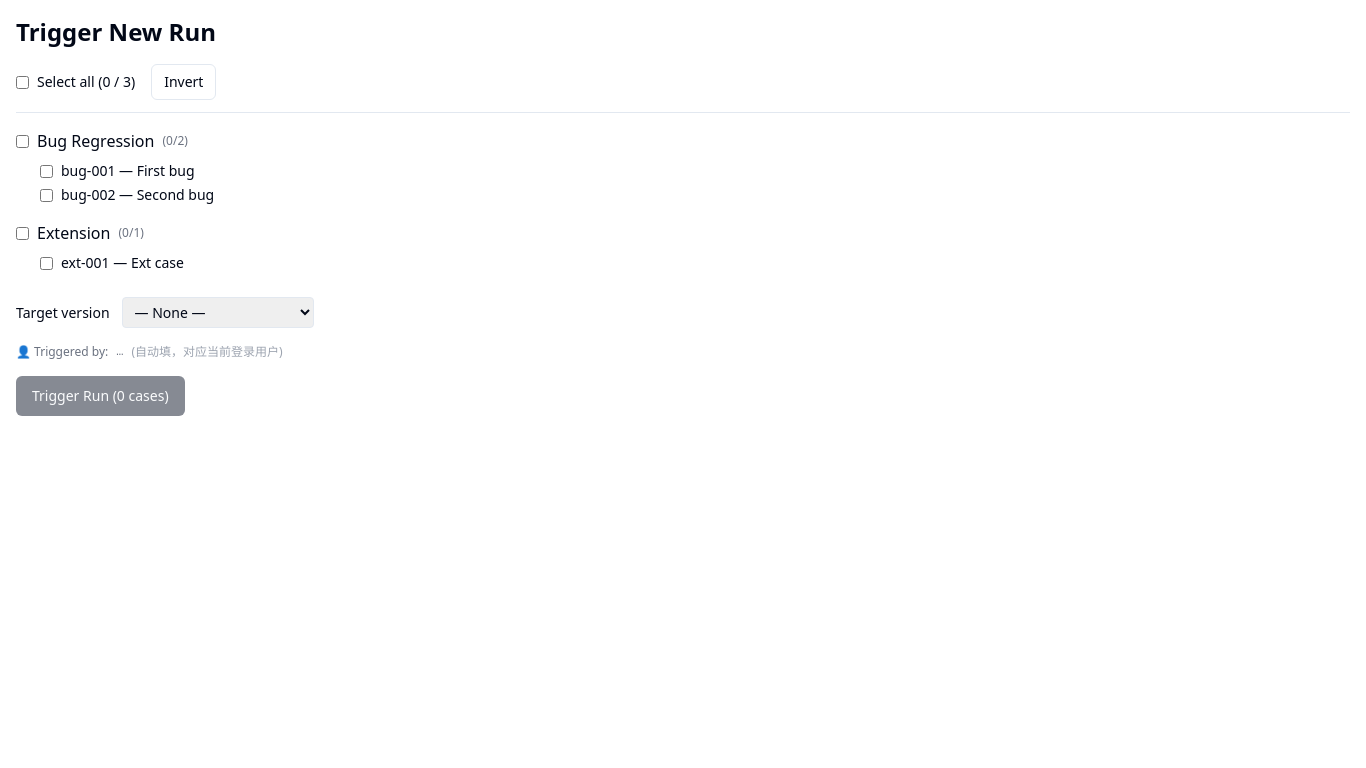
RunNewPage › shows conflict dialog on 409 response
This screenshot has width=1366, height=768.
Click the checkbox with test id "case-checkbox-bug-001". click: {"x": 46, "y": 171}
box: [40, 164, 53, 178]
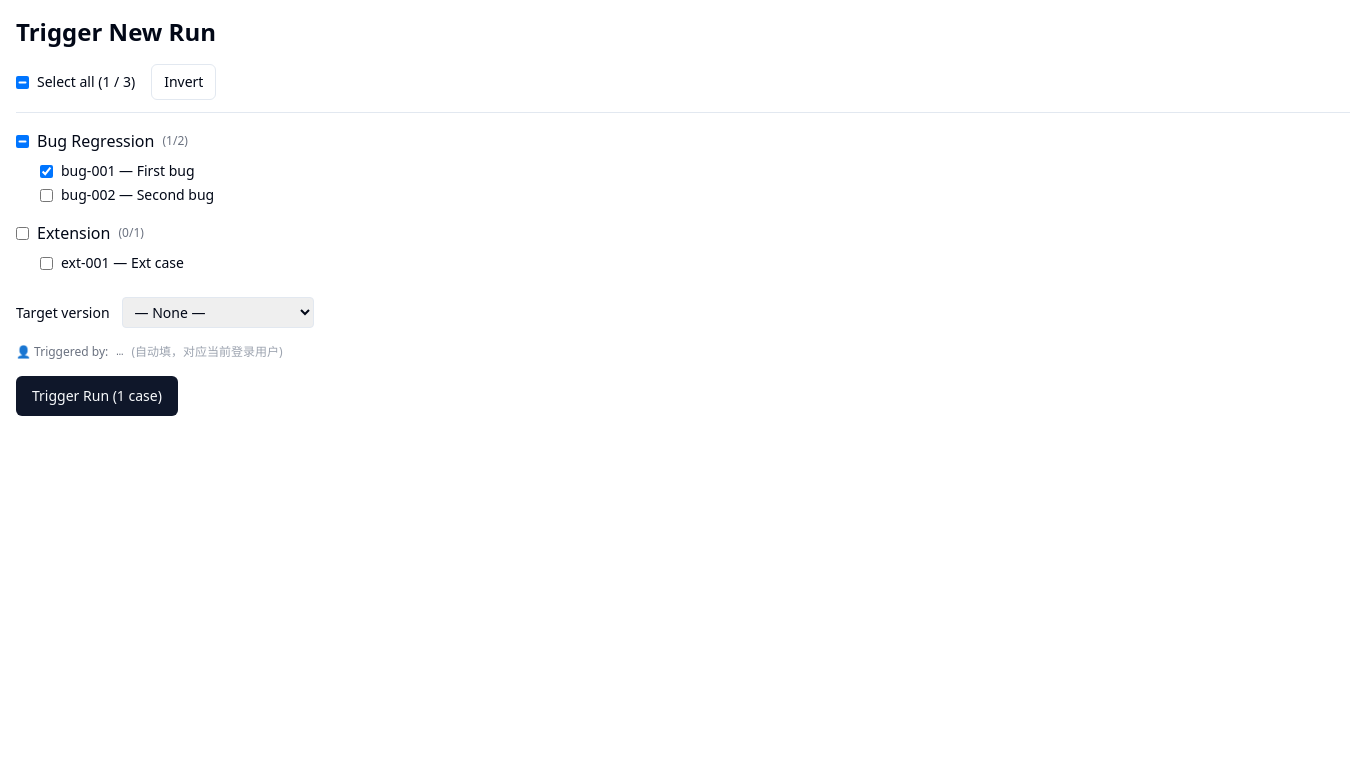
Click the button with test id "btn-submit-run". click: {"x": 97, "y": 396}
box: [16, 376, 178, 416]
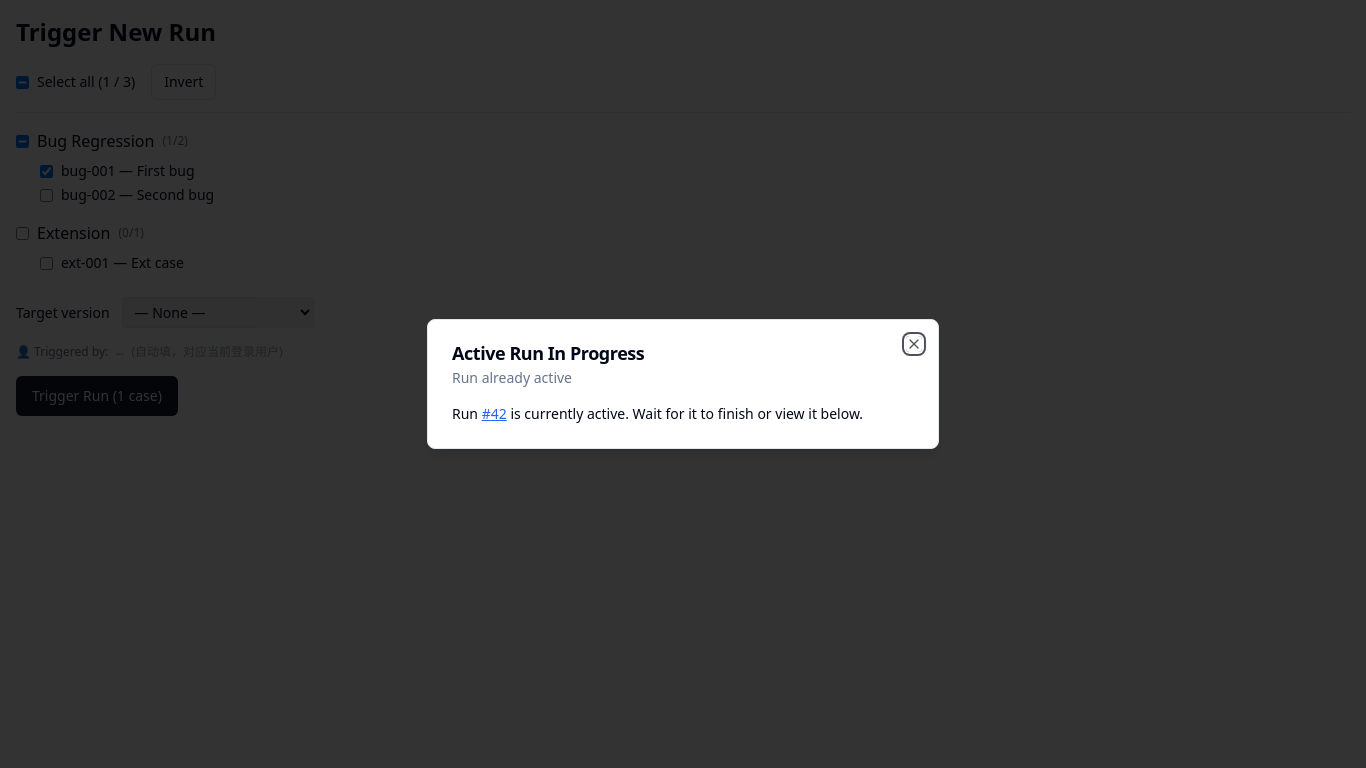
Expected: the dialog with test id "modal-active-run-conflict" is shown, [427, 319, 939, 449]
Expected: the link with test id "link-existing-run" is shown, [482, 404, 507, 423]
